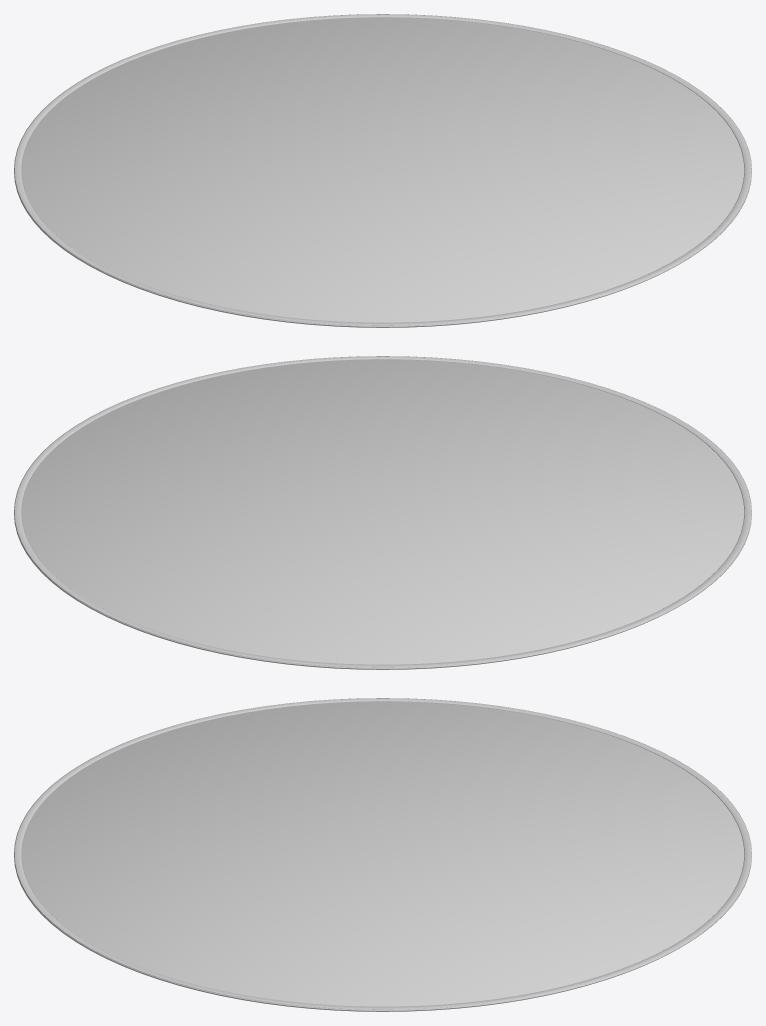
File: rug-round-pile.glb
The picture shows the model from 3 angles, top to bottom: view 1: azimuth 30°, elevation 25°; view 2: azimuth 150°, elevation 25°; view 3: azimuth 270°, elevation 25°; orthographic projection.
Parts seen in each view (by area): view 1: Low pile round rug, Bound round rug edge; view 2: Low pile round rug, Bound round rug edge; view 3: Low pile round rug, Bound round rug edge.
Boxes of the visible parts, x1,y1,x2,y2 form: Low pile round rug: (14,17,751,327); Bound round rug edge: (14,14,751,325); Low pile round rug: (14,359,751,669); Bound round rug edge: (14,356,751,667); Low pile round rug: (14,701,751,1011); Bound round rug edge: (14,698,751,1009).
Bounding box in the file's own units: 2.44 × 0.01 × 2.44.
Materials: 1 (1 with a texture image).
